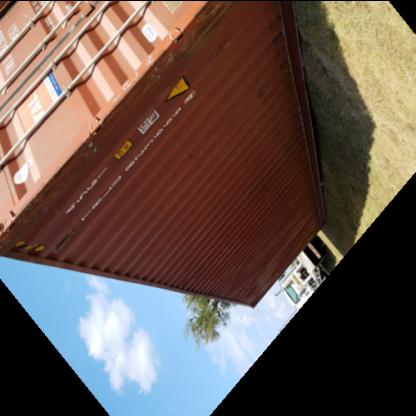Damage: (247, 80, 294, 156), (122, 42, 189, 94), (1, 186, 50, 257), (75, 127, 110, 185)
